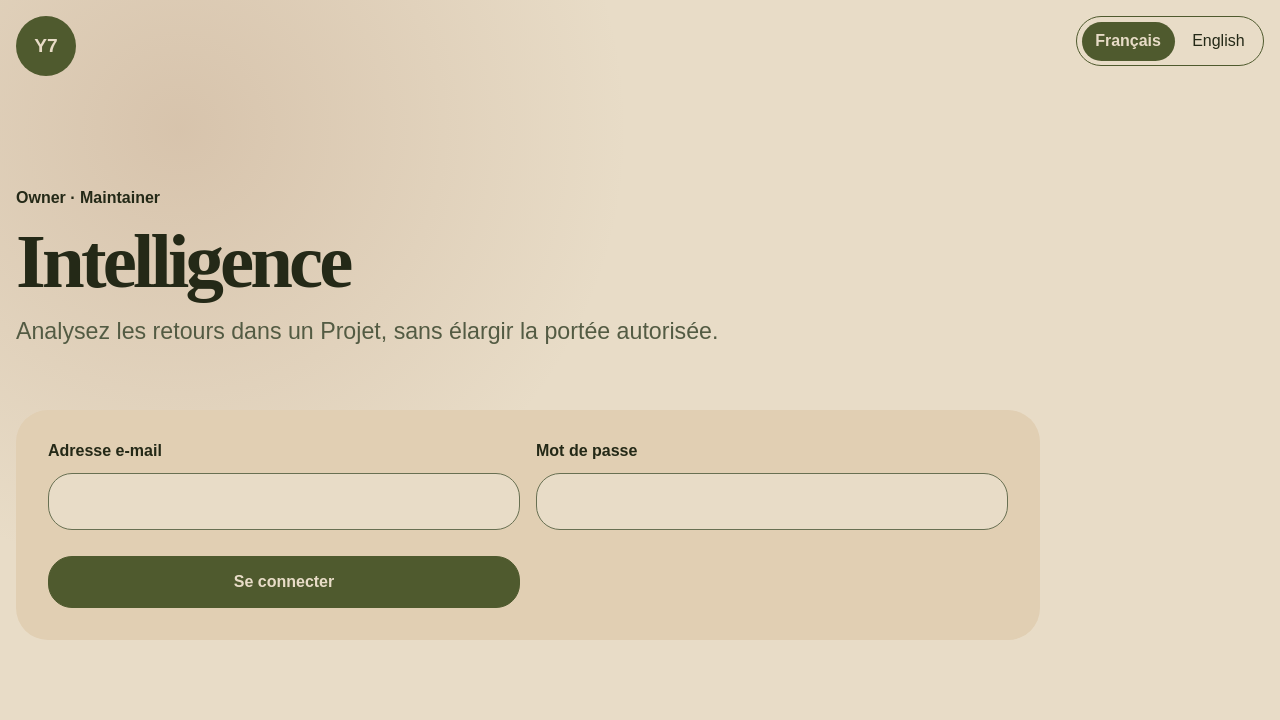
Scenario: root orientation › BDD-INT-217 routes /intelligence to the protected bilingual screen
The image size is (1280, 720).
Expected: the heading "Intelligence" is shown, 16,219 -> 350,304
Step 1. Click the button "English" → (1218, 41), box 1178,22 -> 1258,61
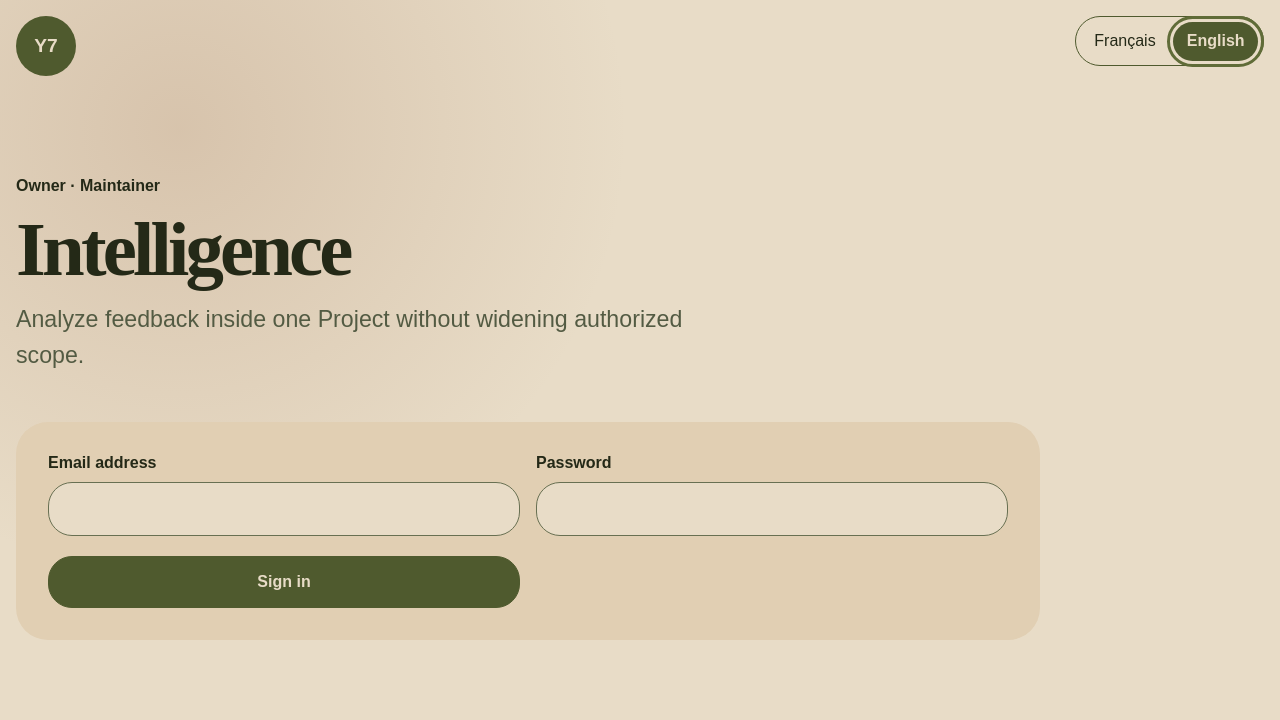
Expected: the text "Analyze feedback inside one Project" is shown, 16,306 -> 682,368
